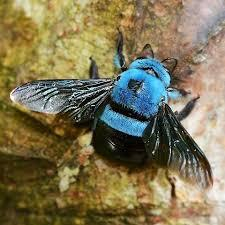Xylocopa: (16, 41, 224, 191)
